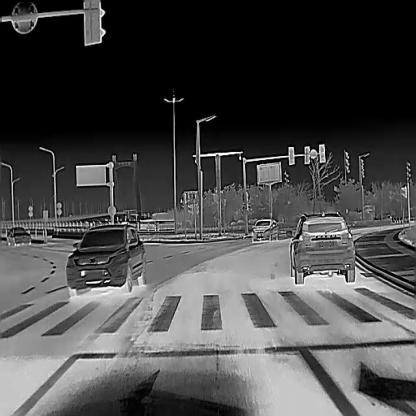car: (65, 223, 148, 296), (288, 210, 356, 285), (250, 217, 279, 242), (4, 225, 32, 246)
